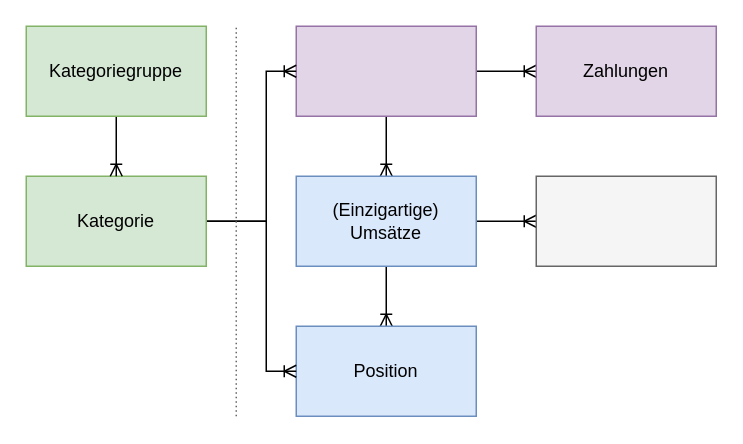
Image size: 743x444. Some labels were removed from this diagram. The centre of each missing label's shape, as x and y in pixels:
"Importierte Umsätze" goes at point (625, 220).
"Wiederkehrende Umsätze" goes at point (385, 70).
